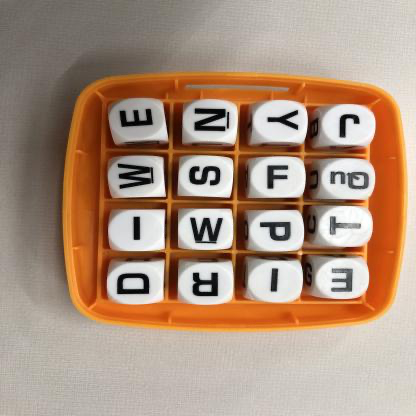d: (108, 263, 166, 304)
e: (109, 103, 166, 142), (317, 260, 369, 299)
f: (252, 161, 302, 198)
i: (108, 210, 167, 252), (249, 260, 304, 301)
j: (323, 108, 375, 144)
n: (185, 103, 238, 142)
p: (251, 212, 304, 252)
qu: (321, 161, 375, 198)
r: (180, 264, 234, 304)
s: (180, 158, 233, 195)
t: (319, 206, 371, 246)
w: (109, 158, 165, 196), (180, 210, 233, 250)
y: (254, 104, 309, 142)
